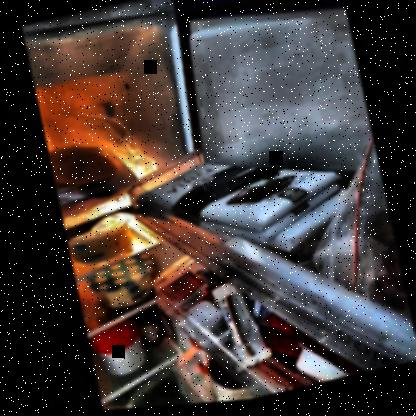chocolate: (139, 142, 334, 247)
salami: (44, 139, 115, 194)
yoghurt: (82, 259, 154, 309), (66, 226, 131, 267)
